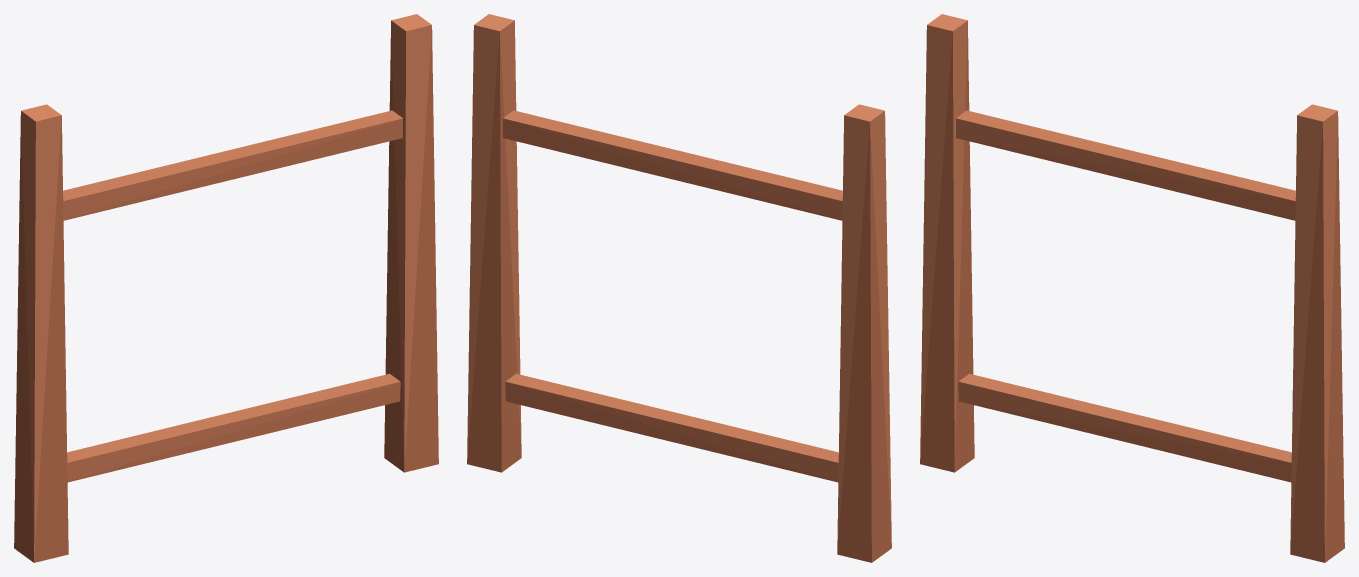
Rendered from fence.glb.
The picture shows the model from 3 angles, left to right: view 1: azimuth 30°, elevation 25°; view 2: azimuth 150°, elevation 25°; view 3: azimuth 330°, elevation 25°; orthographic projection.
Parts seen in each view (by area): view 1: cc77450, cdb845d, cdf8860, ccb7753, cd37d58, cea9167; view 2: cc77450, cdb845d, cdf8860, ccb7753, cd37d58, cea9167; view 3: cc77450, cdb845d, cdf8860, cd37d58, ccb7753, cea9167.
Part boxes in pixels (<box>): cc77450: <box>14,22,438,562</box>; cdb845d: <box>21,20,431,561</box>; cdf8860: <box>63,110,402,462</box>; ccb7753: <box>63,119,402,482</box>; cd37d58: <box>63,118,403,481</box>; cea9167: <box>21,14,431,121</box>; cc77450: <box>467,32,891,562</box>; cdb845d: <box>467,20,891,551</box>; cdf8860: <box>503,110,842,462</box>; ccb7753: <box>503,119,842,482</box>; cd37d58: <box>502,118,842,481</box>; cea9167: <box>474,14,884,121</box>; cc77450: <box>920,22,1344,562</box>; cdb845d: <box>920,20,1337,554</box>; cdf8860: <box>956,110,1295,462</box>; cd37d58: <box>955,118,1295,463</box>; ccb7753: <box>956,137,1295,482</box>; cea9167: <box>927,14,1337,121</box>.
Size of the model in its own units: 0.5 by 0.5175 by 0.0428.
